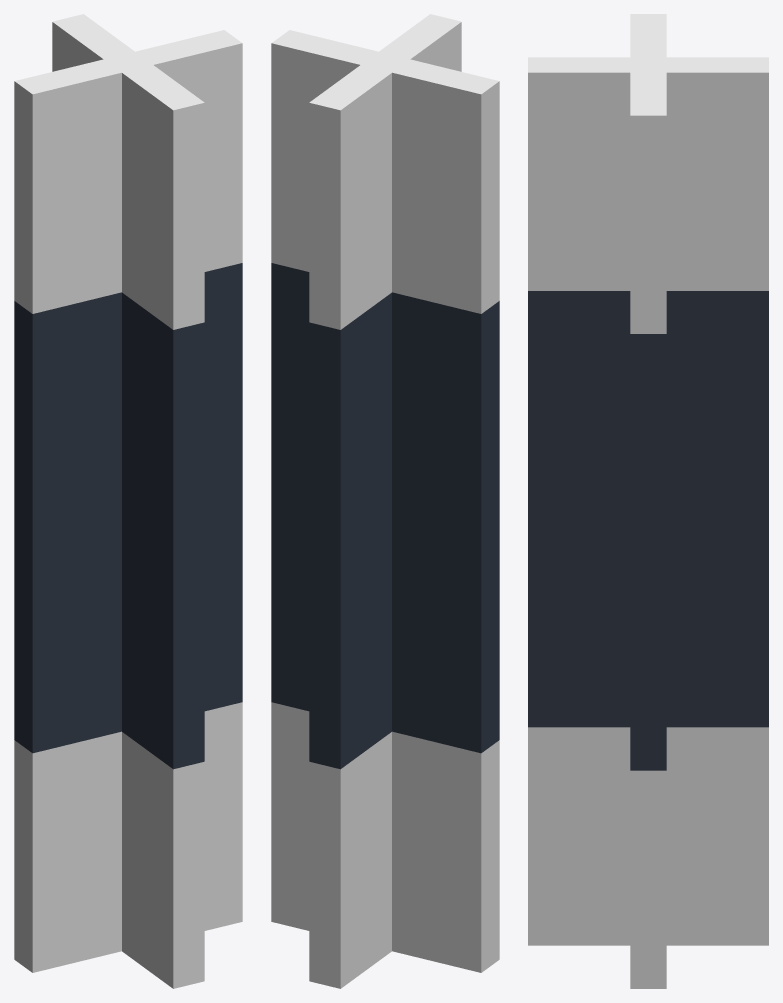
File: SM_OfficeCrossThin.fbx
3 views of the same model, side by side, from view 1: azimuth 30°, elevation 25°; view 2: azimuth 150°, elevation 25°; view 3: azimuth 270°, elevation 25° (orthographic).
Parts seen in each view (by area): view 1: SM_CrossAvg; view 2: SM_CrossAvg; view 3: SM_CrossAvg.
Boxes of the visible parts, <box> form: SM_CrossAvg: <box>14,14,242,988</box>; SM_CrossAvg: <box>271,14,499,988</box>; SM_CrossAvg: <box>528,14,768,988</box>.
Size of the model in its own units: 100 by 400 by 100.
